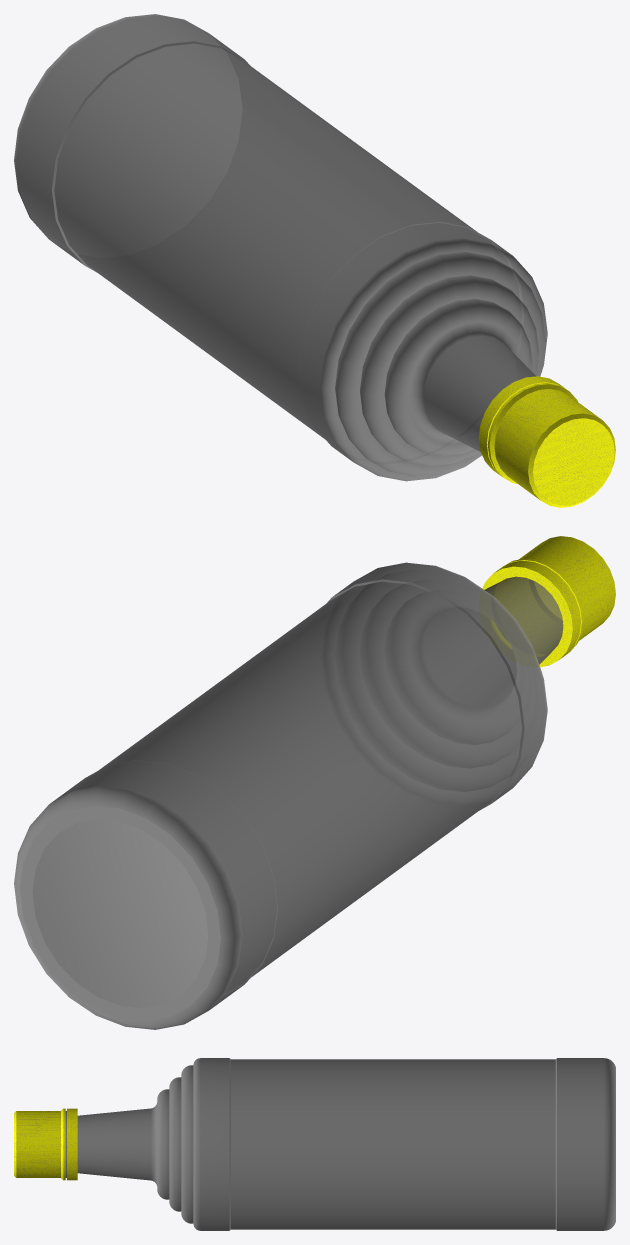
Rendered from model_align.obj.
The picture shows the model from 3 angles, top to bottom: view 1: azimuth 30°, elevation 25°; view 2: azimuth 150°, elevation 25°; view 3: azimuth 270°, elevation 25°; orthographic projection. The views are drawn at different scales.
Parts seen in each view (by area): view 1: mesh1_mesh1-geometry; view 2: mesh1_mesh1-geometry; view 3: mesh1_mesh1-geometry.
Part boxes in pixels (left/top/right/bottom): mesh1_mesh1-geometry: left=14, top=14, right=615, bottom=507; mesh1_mesh1-geometry: left=14, top=536, right=615, bottom=1029; mesh1_mesh1-geometry: left=14, top=1058, right=615, bottom=1230.
Size of the model in its own units: 0.0467 by 0.0467 by 0.1622.
